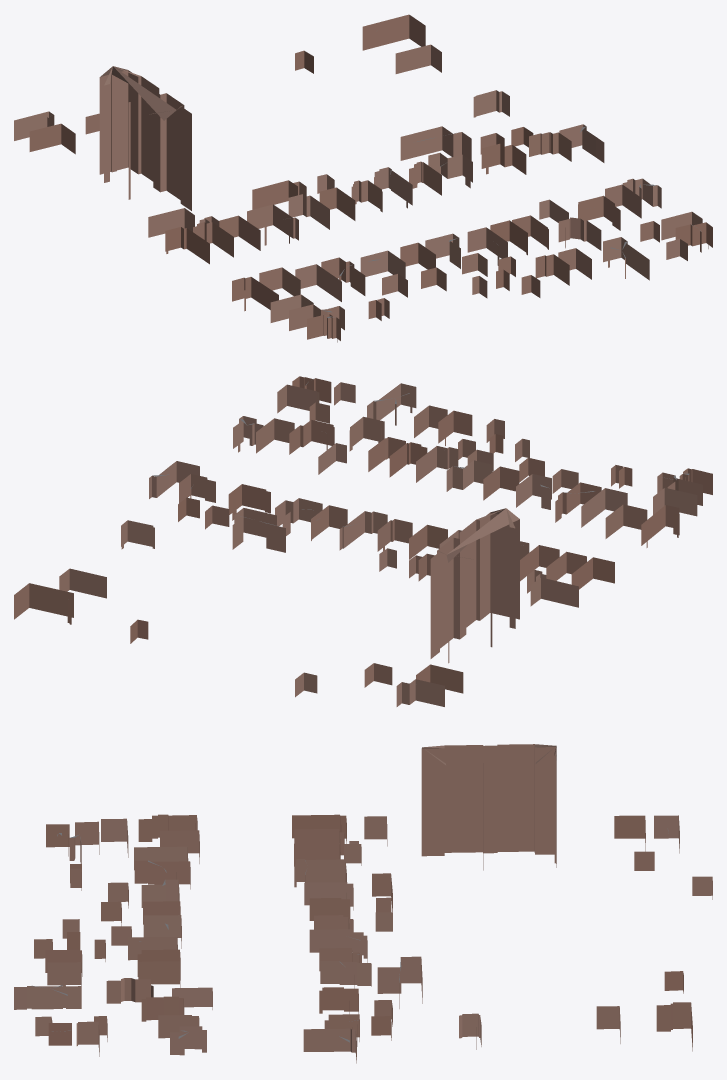
File: c_1639_17828_buildings_residential.glb
The picture shows the model from 3 angles, top to bottom: view 1: azimuth 30°, elevation 25°; view 2: azimuth 150°, elevation 25°; view 3: azimuth 270°, elevation 25°; orthographic projection. The views are drawn at different scales.
Visible parts, largest first — view 1: geometry_0; view 2: geometry_0; view 3: geometry_0.
Part boxes in pixels (<box>): geometry_0: <box>14,14,712,342</box>; geometry_0: <box>14,376,712,706</box>; geometry_0: <box>14,744,712,1063</box>.
Bounding box in the file's own units: 203 × 48.1 × 263.
